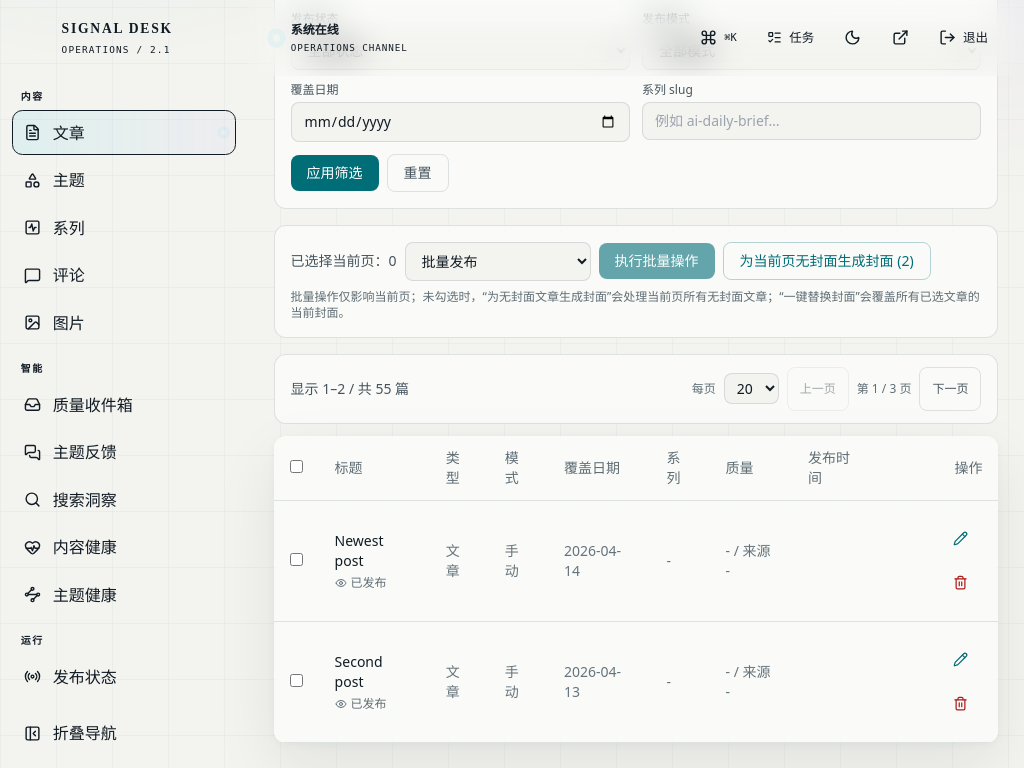
Scenario: renders pagination metadata and loads the next page
This screenshot has width=1024, height=768.
(page scrolled)
Expected: the text "Newest post" is shown, x1=335 y1=531 x2=384 y2=570
Expected: the text "显示 1–2 / 共 55 篇" is shown, x1=291 y1=379 x2=409 y2=399
Click the button "下一页" at (950, 389), box x1=919 y1=367 x2=981 y2=411
(page scrolled)
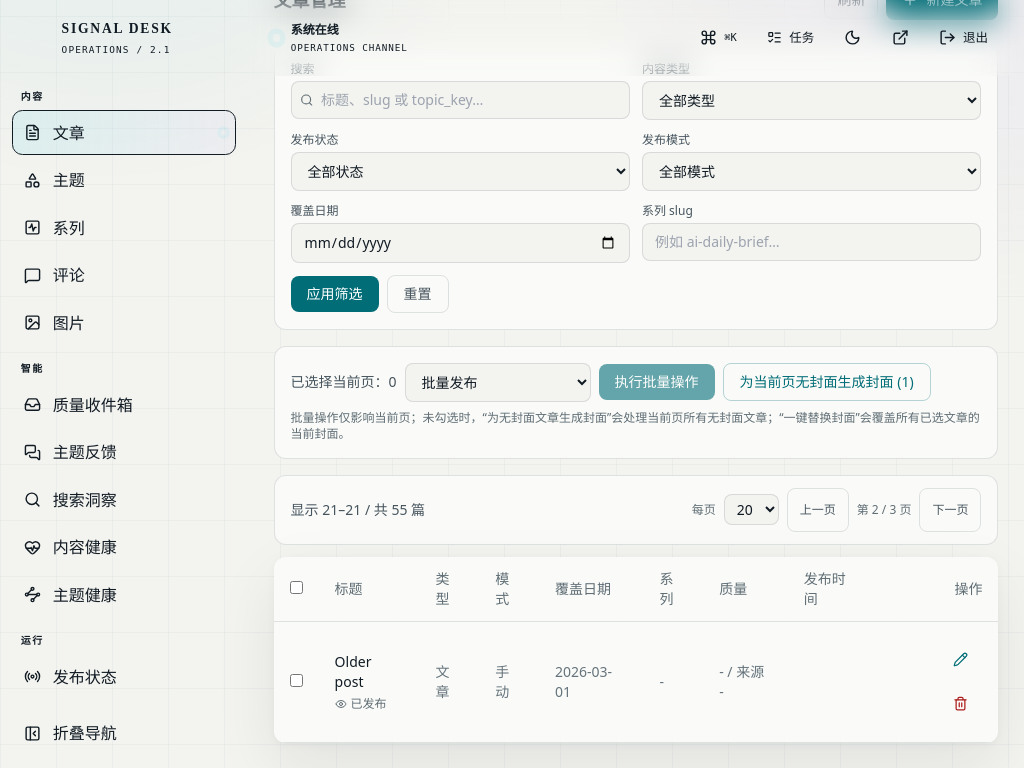
Now the text "Older post" is shown, box x1=335 y1=652 x2=371 y2=691
